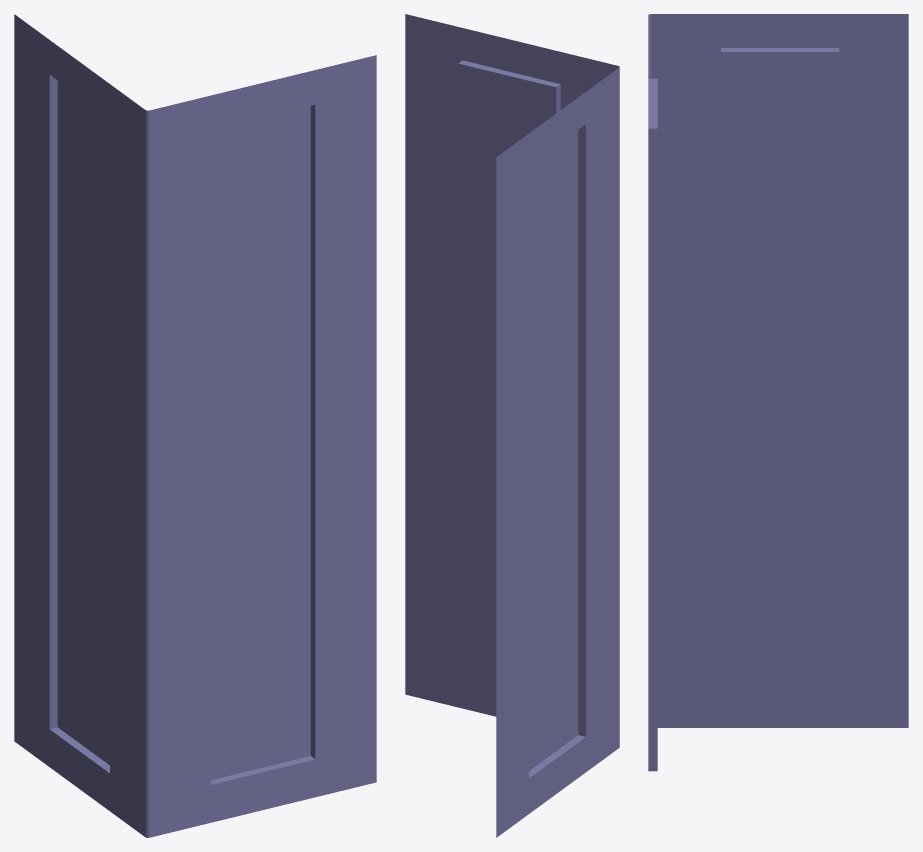
Rendered from M_A_wall_corner_04.fbx.
3 renders of one model, left to right at view 1: azimuth 30°, elevation 25°; view 2: azimuth 150°, elevation 25°; view 3: azimuth 270°, elevation 25°, orthographic. The views are drawn at different scales.
Parts seen in each view (by area): view 1: M_A_wall_corner_04; view 2: M_A_wall_corner_04; view 3: M_A_wall_corner_04.
Part boxes in pixels (x1,y1,x2,y2): M_A_wall_corner_04: (14,14,376,837); M_A_wall_corner_04: (405,14,619,837); M_A_wall_corner_04: (648,14,908,771).
Size of the model in its own units: 100 by 302 by 100.
